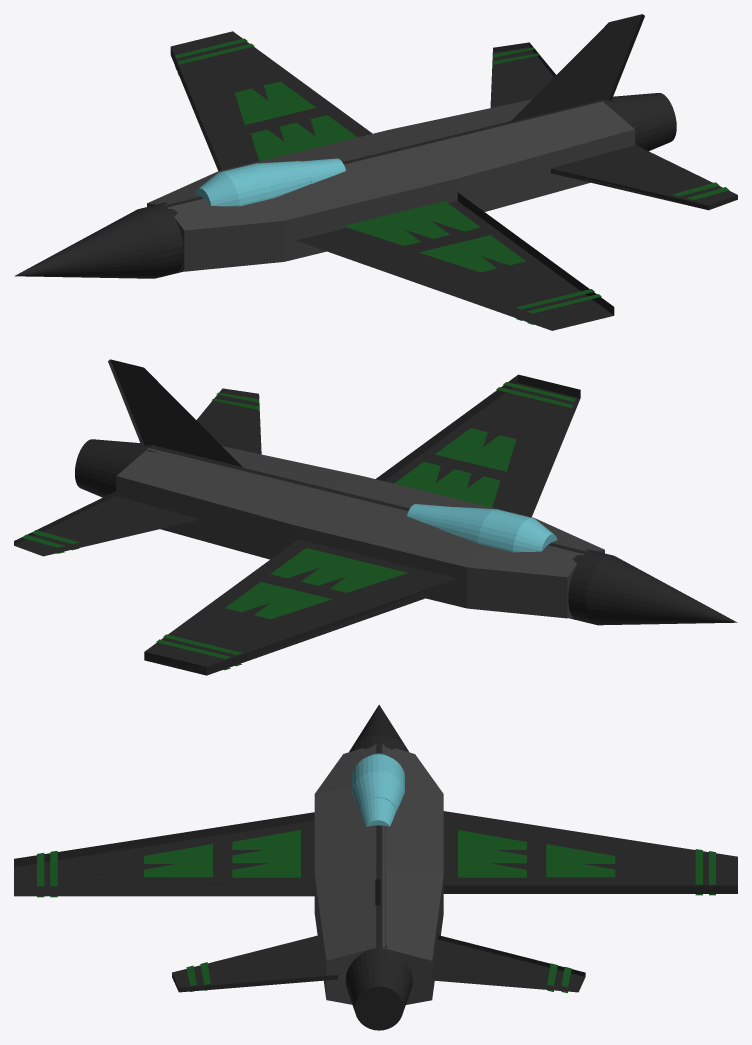
Rendered from airplane.fbx.
3 views of the same model, one above another, from view 1: azimuth 30°, elevation 25°; view 2: azimuth 150°, elevation 25°; view 3: azimuth 270°, elevation 25° (orthographic). The views are drawn at different scales.
Parts seen in each view (by area): view 1: badan_base.002, sayap, ekor, Plane, badan_base, kokpit; view 2: badan_base.002, sayap, ekor, Plane, badan_base, kokpit; view 3: sayap, badan_base.002, Plane, ekor, badan_base, kokpit.
Part boxes in pixels (bbox=[...]): badan_base.002: bbox=[147, 99, 634, 271]; sayap: bbox=[170, 31, 614, 330]; ekor: bbox=[490, 14, 737, 210]; Plane: bbox=[175, 38, 729, 324]; badan_base: bbox=[14, 93, 676, 278]; kokpit: bbox=[195, 158, 345, 206]; badan_base.002: bbox=[116, 445, 604, 618]; sayap: bbox=[144, 374, 580, 675]; ekor: bbox=[14, 359, 261, 556]; Plane: bbox=[22, 382, 575, 670]; badan_base: bbox=[75, 439, 737, 625]; kokpit: bbox=[407, 504, 557, 552]; sayap: bbox=[14, 811, 737, 896]; badan_base.002: bbox=[314, 744, 443, 1004]; Plane: bbox=[37, 830, 715, 993]; ekor: bbox=[172, 879, 585, 992]; badan_base: bbox=[345, 704, 412, 1030]; kokpit: bbox=[352, 753, 404, 826].
Size of the model in its own units: 2091 by 433 by 2103.
